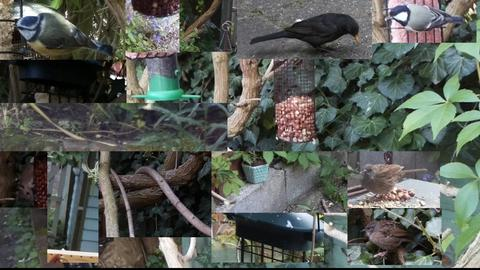blackbird: (250, 12, 360, 56)
blue tit: (12, 12, 113, 57)
dunnock: (360, 220, 429, 260), (360, 164, 428, 202)
great tit: (384, 4, 464, 32)
mouse: (16, 164, 35, 201)
